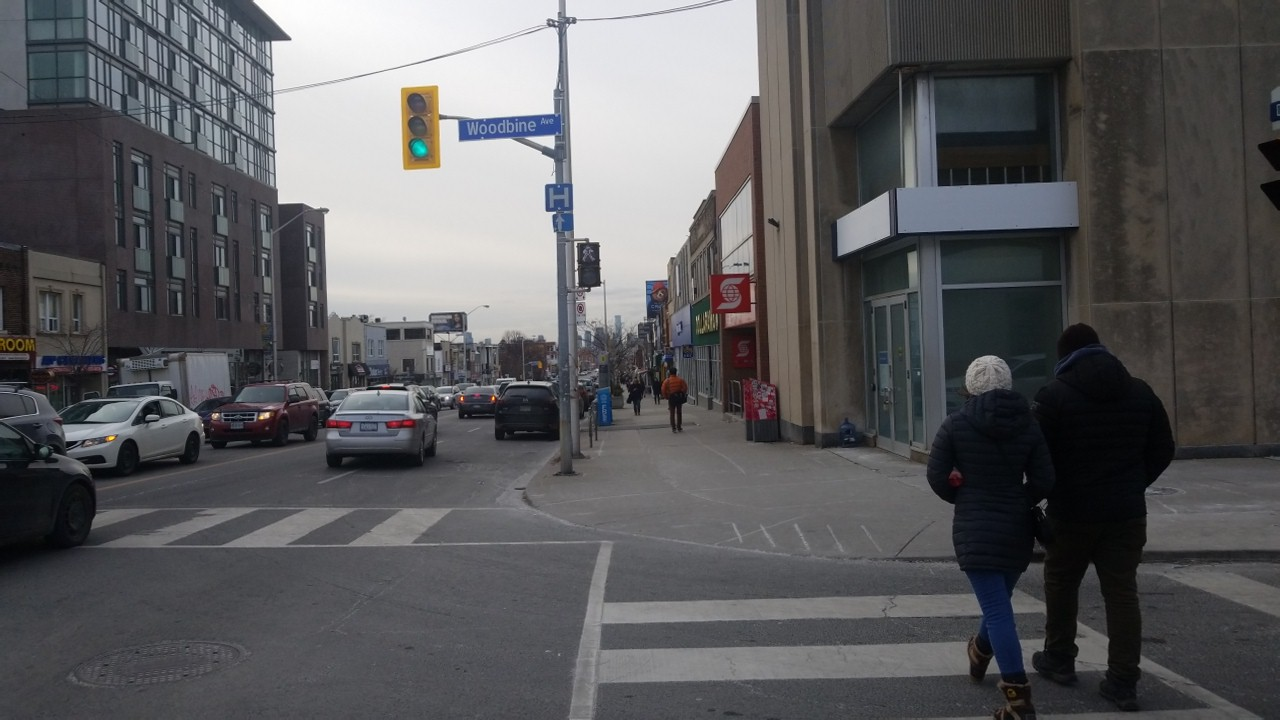light: (573, 235, 604, 290)
